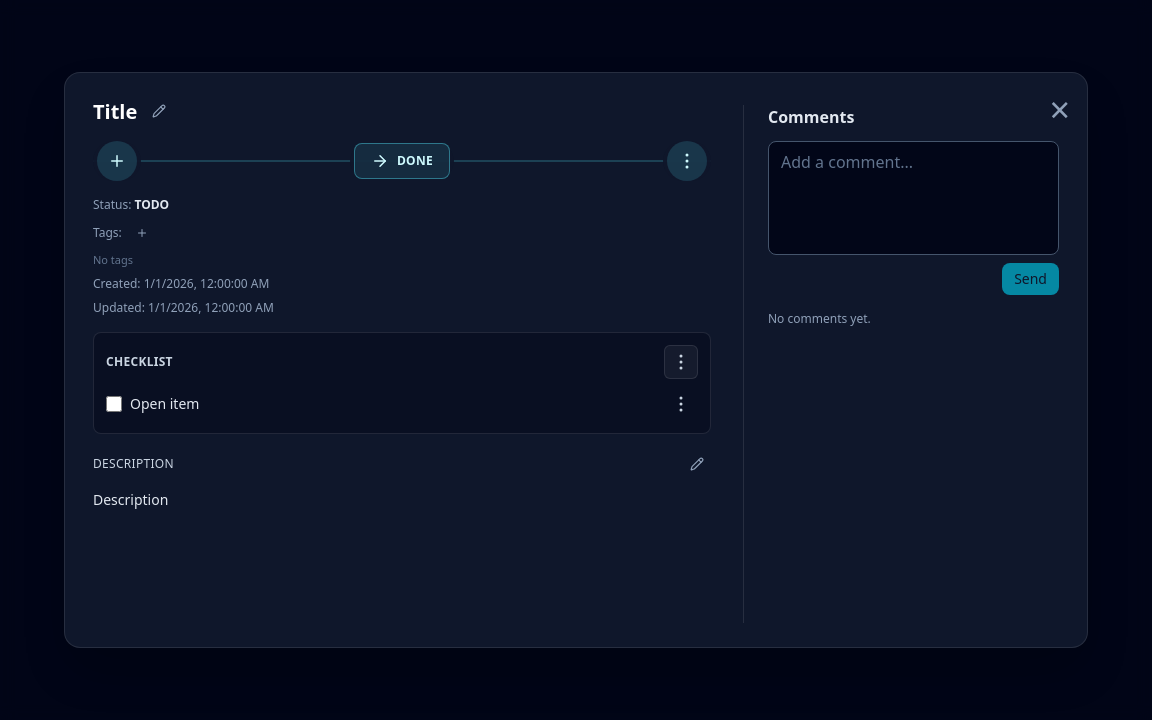
TodoModal › shows error when moving card with unfinished checklist to done from next-status action
The width and height of the screenshot is (1152, 720).
What coordinates should you click on to do the following:
click the button with test id "todo-next-status-btn"
I would click on:
 (402, 161)
Its box is [354,143,450,179].
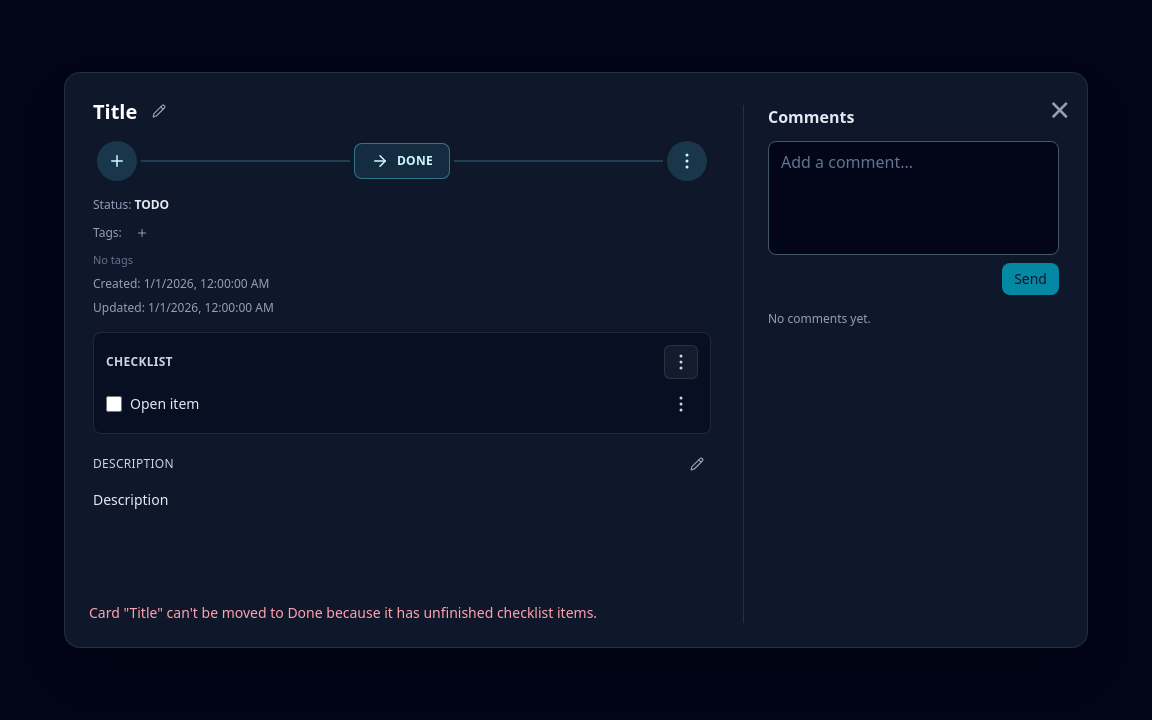
Now the text "Card \"Title\" can't be moved to Done because it has unfinished checklist items." is shown, box [89,603,597,622]
